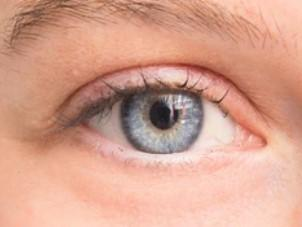eye: (122, 90, 205, 153)
